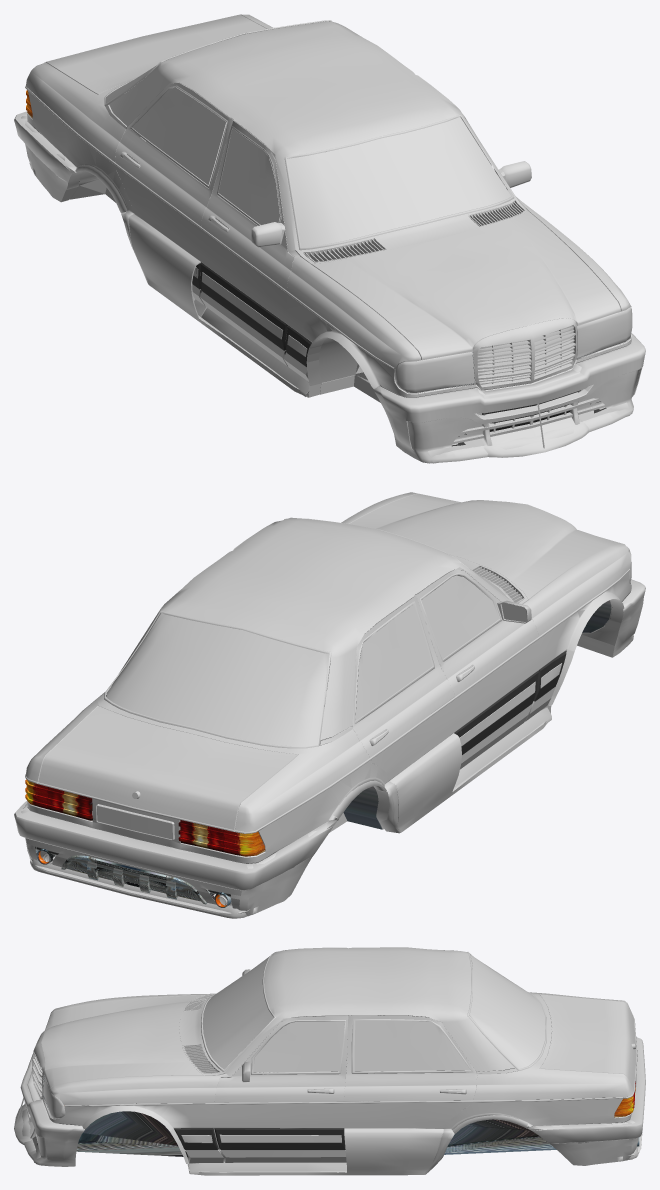
Rendered from Bandit.fbx.
3 views of the same model, one above another, from view 1: azimuth 30°, elevation 25°; view 2: azimuth 150°, elevation 25°; view 3: azimuth 270°, elevation 25° (orthographic). The views are drawn at different scales.
Visible parts, largest first — view 1: kit02_body, kit03_body, window, static_objects, kit04_body, lights_glass, kit01_objects, kit03_objects, standart_objects, kit01_body, body; view 2: kit02_body, kit04_body, window, kit03_body, static_objects, kit04_objects, rear_lights, kit01_objects, body, kit01_body, standart_objects; view 3: kit02_body, kit04_body, window, kit03_body, kit04_objects, static_objects, kit01_objects, standart_objects, kit01_body, lights_glass, salon.
Part boxes in pixels (x1,y1,x2,y2): kit02_body: [21, 14, 632, 463]; kit03_body: [29, 73, 645, 463]; window: [105, 21, 510, 247]; static_objects: [25, 20, 577, 389]; kit04_body: [14, 14, 641, 457]; lights_glass: [394, 307, 632, 392]; kit01_objects: [27, 121, 606, 446]; kit03_objects: [70, 171, 380, 402]; standart_objects: [29, 126, 580, 396]; kit01_body: [28, 71, 482, 390]; body: [28, 82, 572, 390]; kit02_body: [21, 494, 632, 918]; kit04_body: [14, 549, 641, 914]; window: [106, 568, 510, 746]; kit03_body: [29, 492, 645, 916]; static_objects: [25, 518, 629, 840]; kit04_objects: [36, 600, 611, 907]; rear_lights: [25, 779, 265, 856]; kit01_objects: [27, 591, 630, 896]; body: [29, 569, 606, 863]; kit01_body: [39, 555, 603, 856]; standart_objects: [23, 600, 612, 861]; kit02_body: [28, 947, 639, 1174]; kit04_body: [14, 951, 645, 1175]; window: [202, 953, 545, 1072]; kit03_body: [20, 950, 642, 1175]; kit04_objects: [76, 1103, 639, 1156]; static_objects: [32, 952, 637, 1106]; kit01_objects: [37, 1097, 626, 1157]; standart_objects: [27, 1071, 627, 1162]; kit01_body: [43, 951, 624, 1142]; lights_glass: [43, 1077, 65, 1118]; salon: [210, 1015, 540, 1102].
Size of the model in its own units: 1.78 by 1.26 by 4.65.
4 materials, 3 textured.
